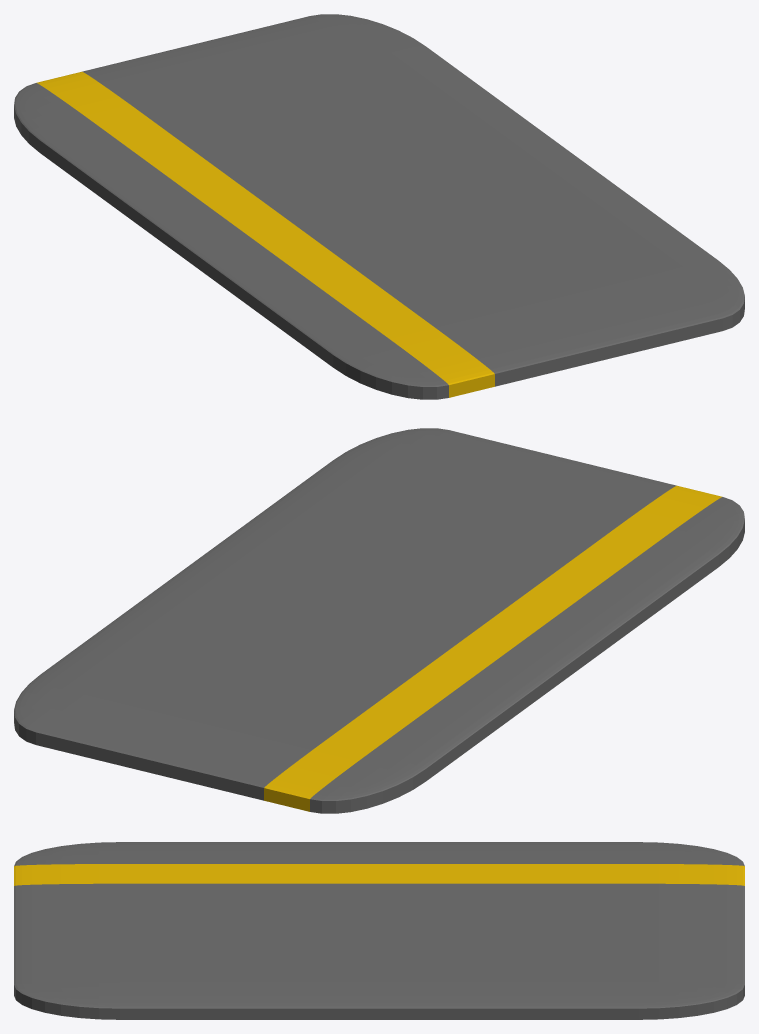
File: YellowKeyCard.glb
The picture shows the model from 3 angles, top to bottom: view 1: azimuth 30°, elevation 25°; view 2: azimuth 150°, elevation 25°; view 3: azimuth 270°, elevation 25°; orthographic projection. The views are drawn at different scales.
Visible parts, largest first — view 1: Cube; view 2: Cube; view 3: Cube.
Boxes of the visible parts, <box> form: Cube: <box>14,14,744,399</box>; Cube: <box>14,428,744,813</box>; Cube: <box>14,842,744,1019</box>.
Size of the model in its own units: 0.0525 by 0.00233 by 0.0974.
